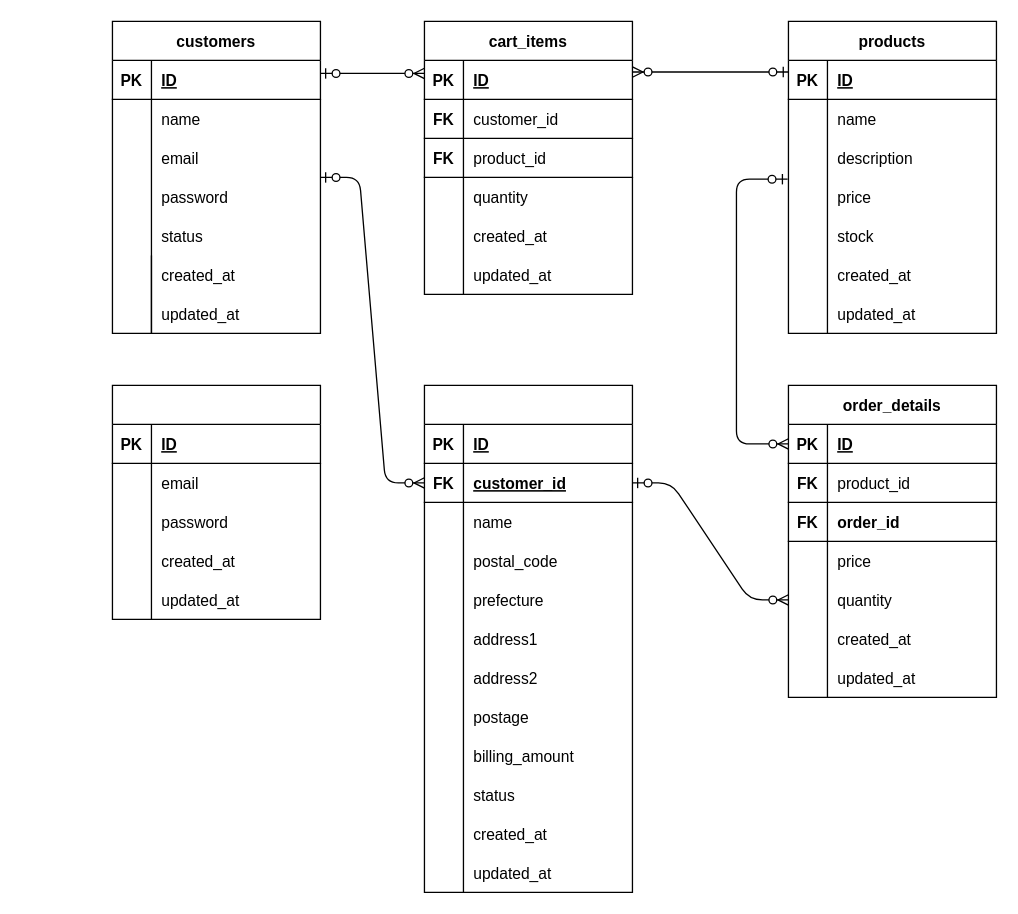
The diagram is 1018 pixels wide and 914 high, and some of its shapes have lost their labels. The box of each missing label's shape, as (x1, y1, x2, y2) in pixels:
adimins: (111, 384, 320, 619)
orders: (423, 384, 632, 892)
